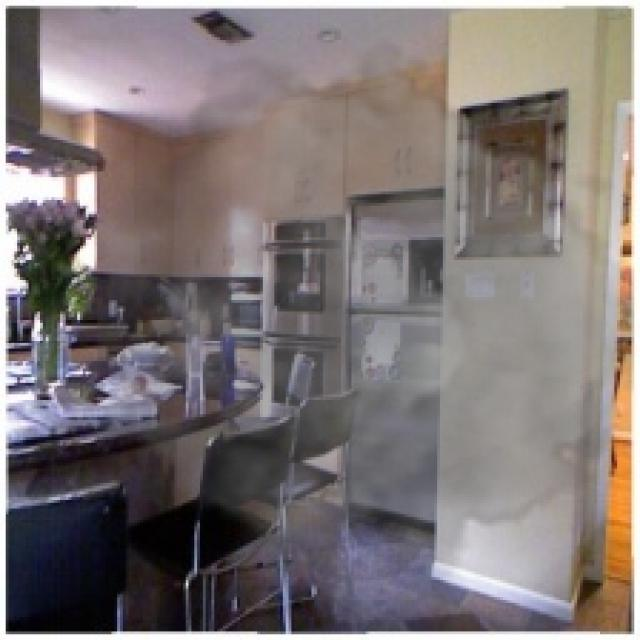smoke: (97, 37, 634, 586)
